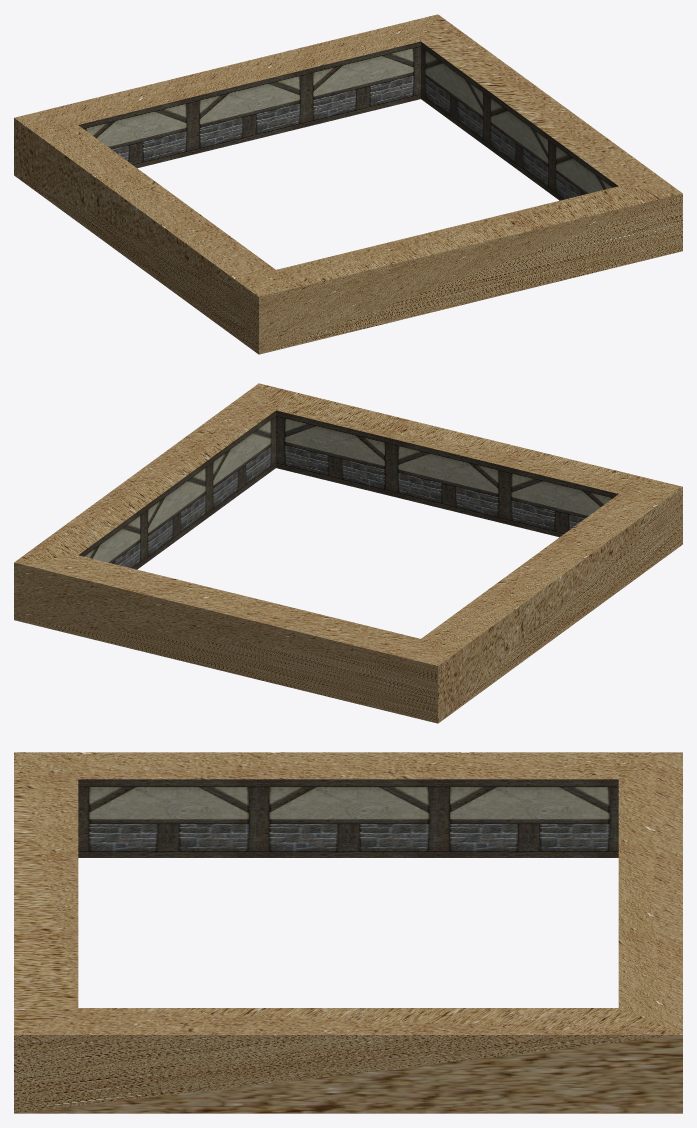
Rendered from Stage_Outside_3.obj.
3 renders of one model, top to bottom at view 1: azimuth 30°, elevation 25°; view 2: azimuth 150°, elevation 25°; view 3: azimuth 270°, elevation 25°, orthographic. The views are drawn at different scales.
Parts seen in each view (by area): view 1: Stage_Outside_3; view 2: Stage_Outside_3; view 3: Stage_Outside_3.
Boxes of the visible parts, x1,y1,x2,y2 form: Stage_Outside_3: (14, 14, 682, 354); Stage_Outside_3: (14, 383, 682, 723); Stage_Outside_3: (14, 752, 682, 1113).
Bounding box in the file's own units: 34.64 × 4.5 × 34.64.
Materials: 2 (2 with a texture image).
